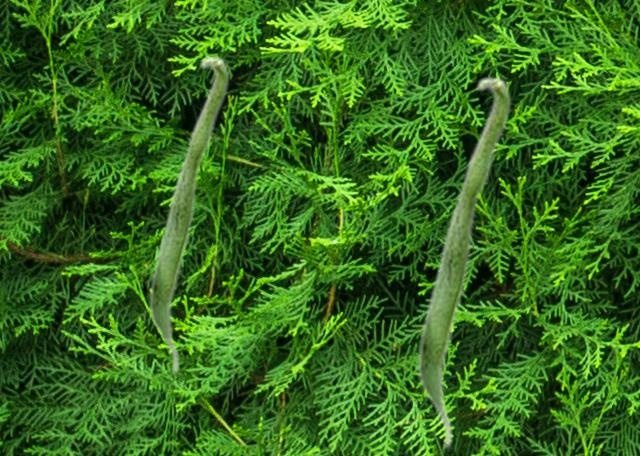french_bean: (416, 75, 511, 451), (148, 55, 229, 376)
